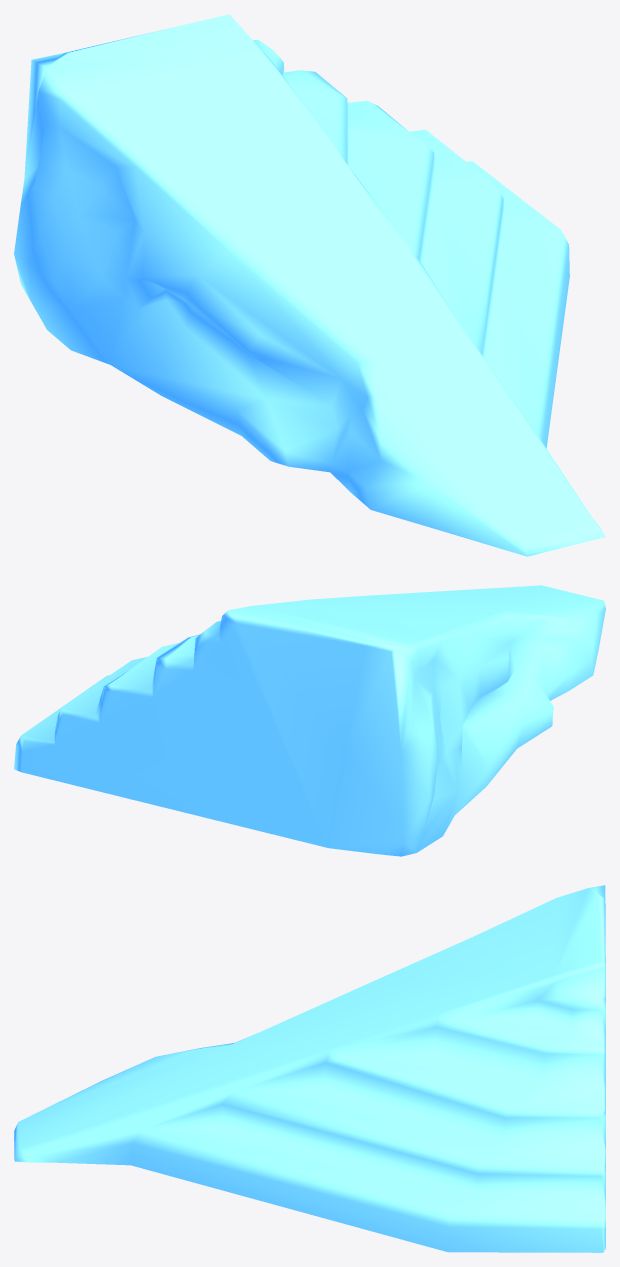
The model's file is ramp_stairway_rubble01_001.fbx.
The picture shows the model from 3 angles, top to bottom: view 1: azimuth 30°, elevation 25°; view 2: azimuth 150°, elevation 25°; view 3: azimuth 270°, elevation 25°; orthographic projection. The views are drawn at different scales.
Parts seen in each view (by area): view 1: ramp_stairway_rubble01.001; view 2: ramp_stairway_rubble01.001; view 3: ramp_stairway_rubble01.001.
Boxes of the visible parts, left/top/right/bottom form: ramp_stairway_rubble01.001: left=14, top=14, right=605, bottom=556; ramp_stairway_rubble01.001: left=14, top=585, right=605, bottom=856; ramp_stairway_rubble01.001: left=14, top=885, right=605, bottom=1252.
Size of the model in its own units: 21160 by 10798 by 28802.
